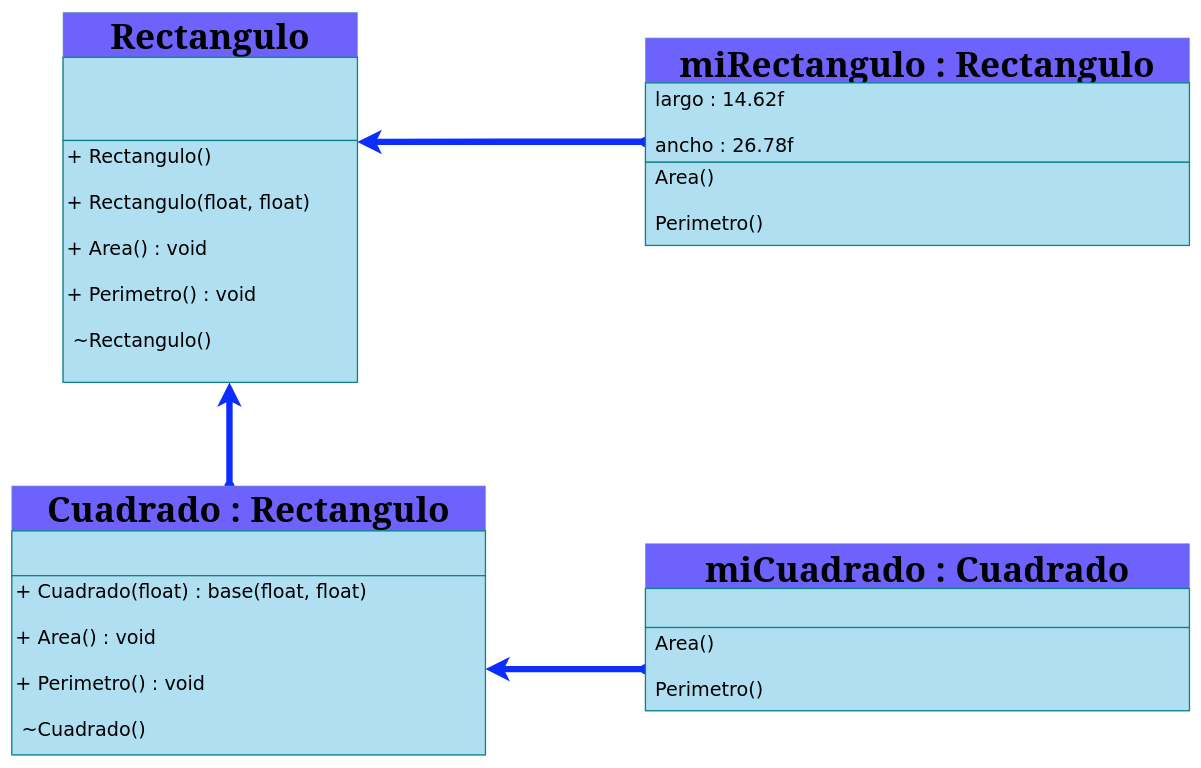
Some shapes in this 1201 by 768 pixel diagram are drawn without their labels. Each missing label, with the centre of its shape:
"+ largo : float" goes at [248,553].
"+ largo : float + ancho : float" goes at [210,98].
"largo : 35.19f" goes at [917,608].
